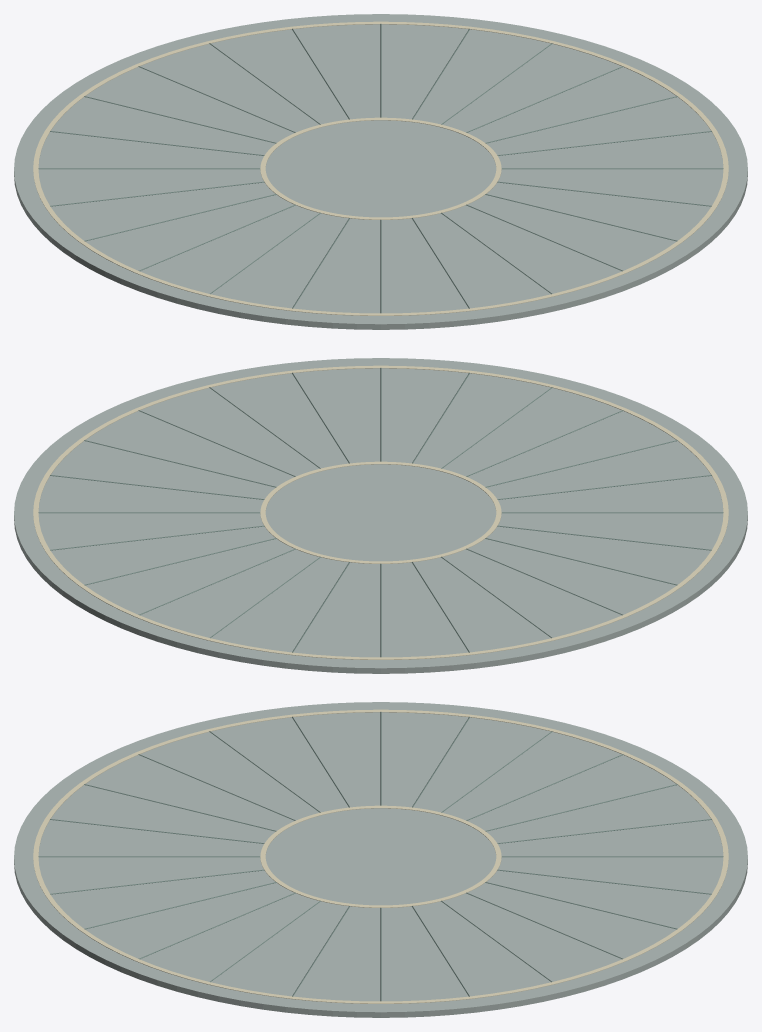
File: PLAZA-001.glb
3 renders of one model, top to bottom at view 1: azimuth 30°, elevation 25°; view 2: azimuth 150°, elevation 25°; view 3: azimuth 270°, elevation 25°, orthographic.
Parts seen in each view (by area): view 1: PLAZA-001; view 2: PLAZA-001; view 3: PLAZA-001.
Part boxes in pixels (bbox=[...]): PLAZA-001: bbox=[14, 14, 747, 329]; PLAZA-001: bbox=[14, 358, 747, 673]; PLAZA-001: bbox=[14, 702, 747, 1017].
Bounding box in the file's own units: 21 × 0.204 × 21.
